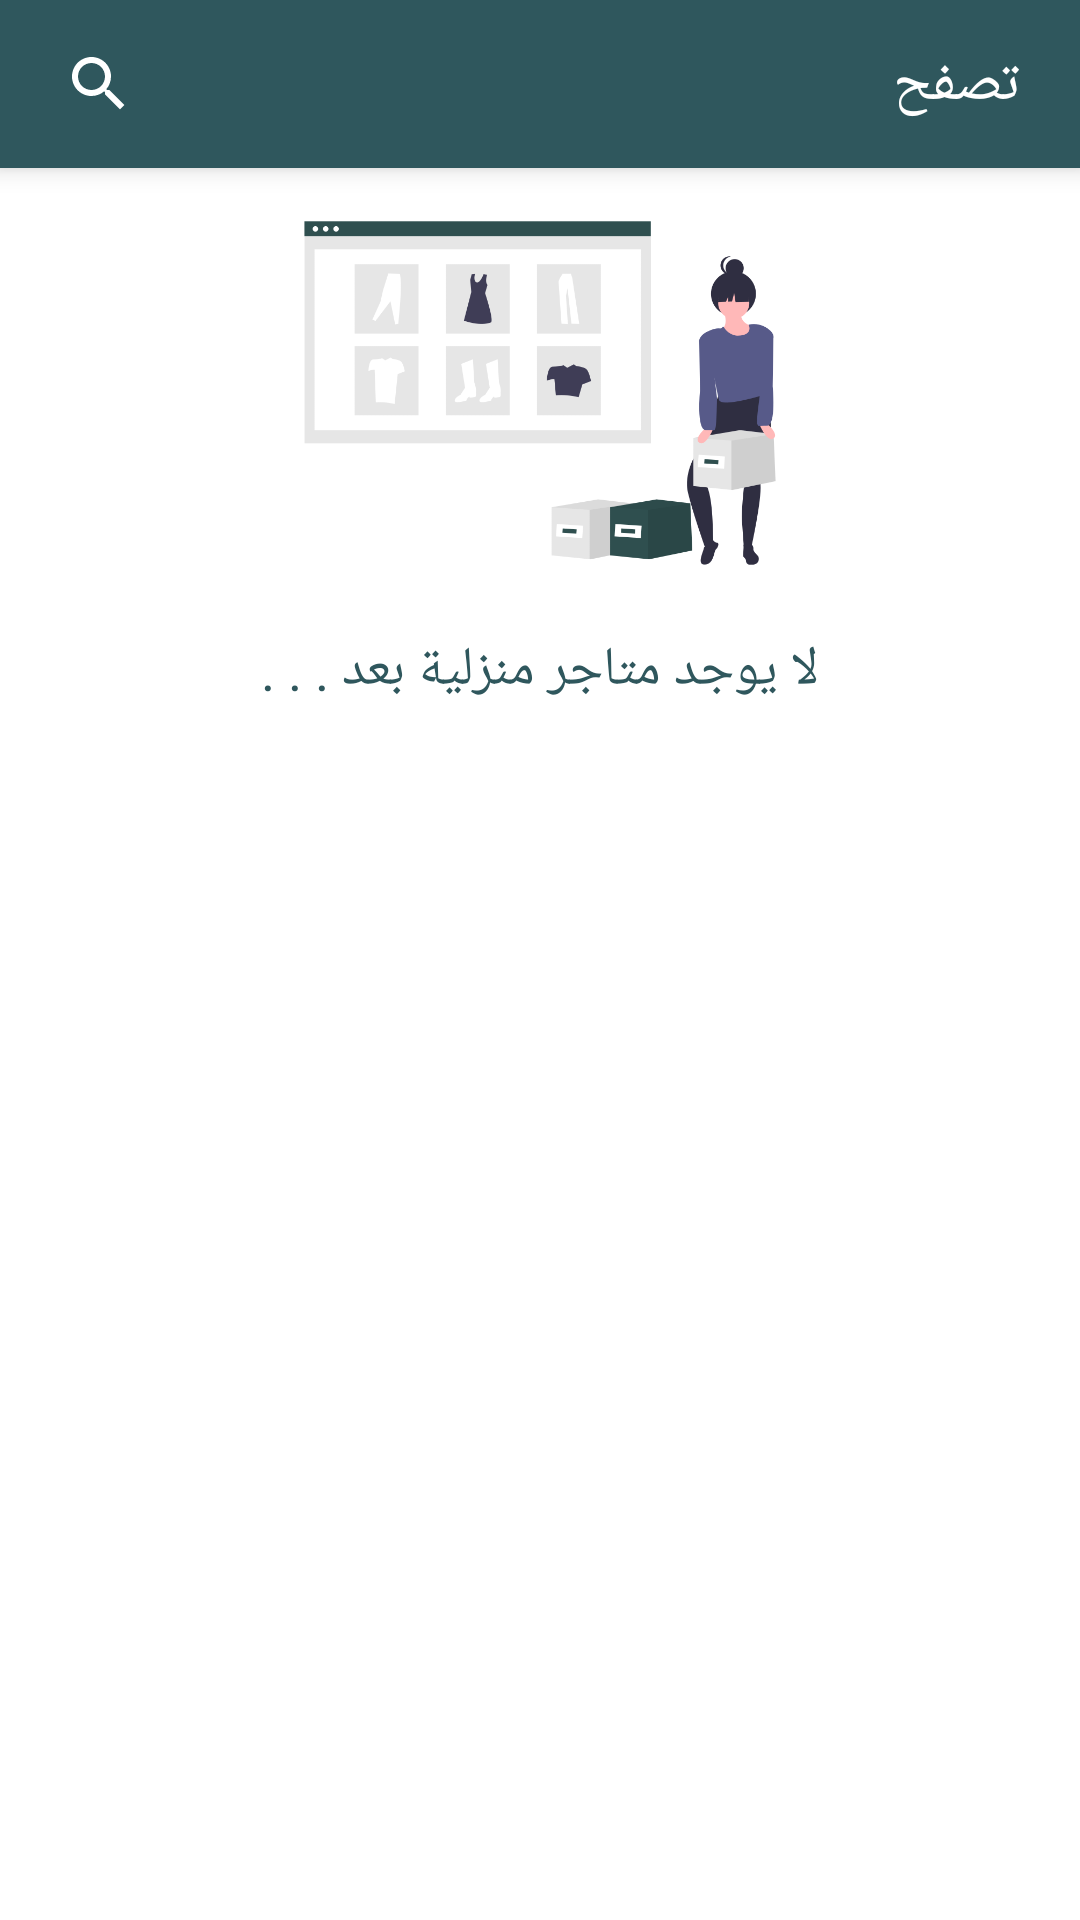

Named icons in this screenshot (1080 × 1920) and their centers, point (x, y):
search: point (98, 83)
